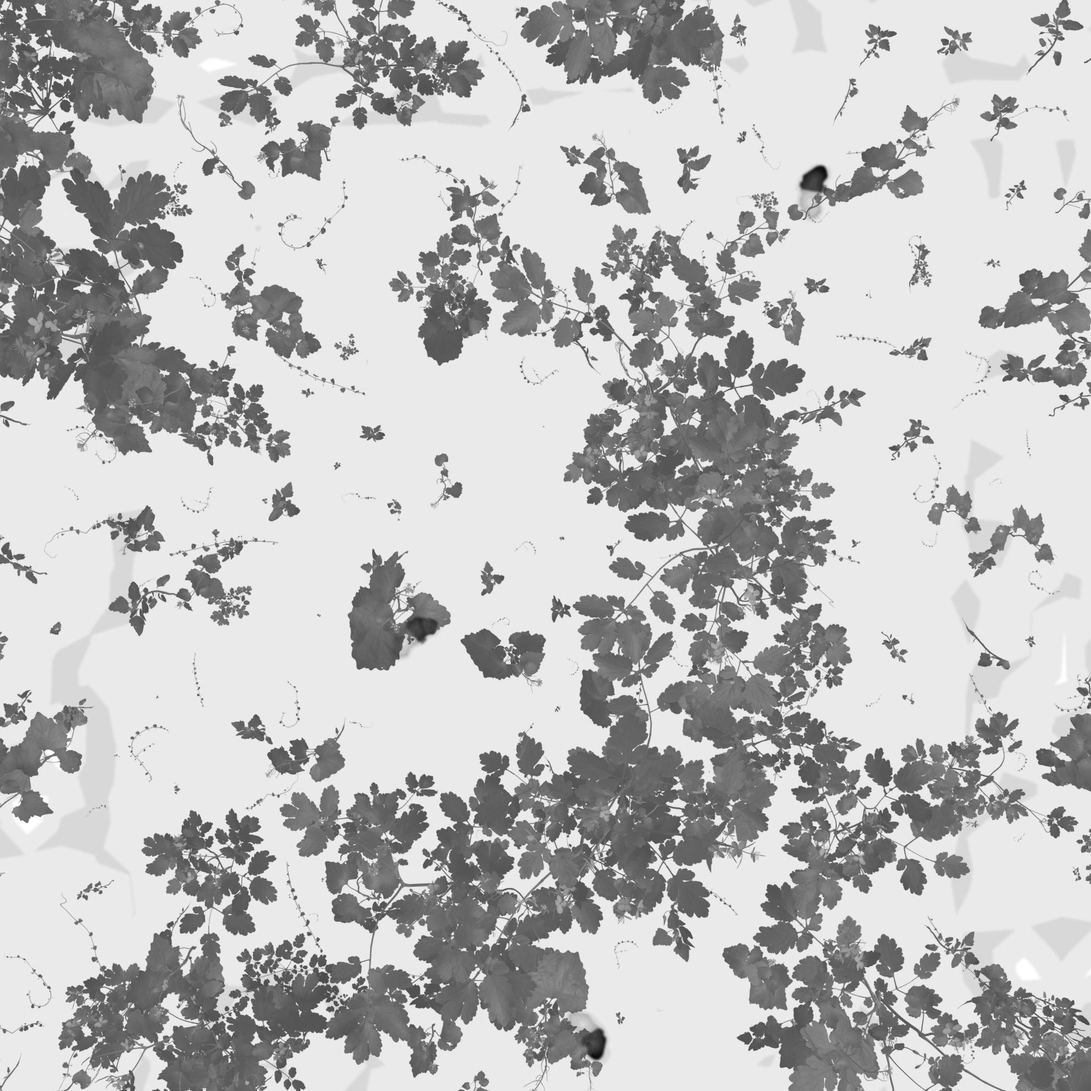landmine: (561, 1008, 609, 1066), (791, 160, 834, 222), (389, 608, 442, 657)
